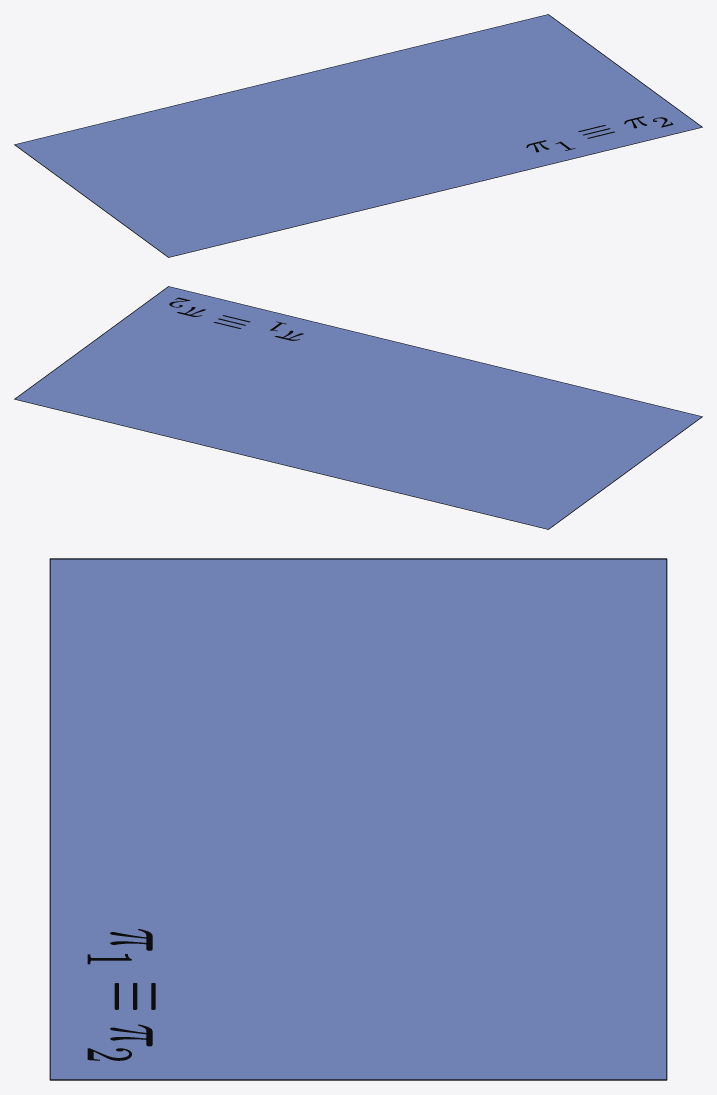
File: pi_coincidente_pi.glb
3 views of the same model, one above another, from view 1: azimuth 30°, elevation 25°; view 2: azimuth 150°, elevation 25°; view 3: azimuth 270°, elevation 25° (orthographic). The views are drawn at different scales.
Parts seen in each view (by area): view 1: Plano, Meshn.004; view 2: Plano, Meshn.004; view 3: Plano, Meshn.004.
Part boxes in pixels (x1,y1,x2,y2): Plano: (14, 14, 702, 257); Meshn.004: (526, 116, 673, 152); Plano: (14, 286, 702, 529); Meshn.004: (169, 297, 303, 340); Plano: (49, 558, 667, 1080); Meshn.004: (87, 929, 155, 1060).
Bounding box in the file's own units: 4.01 × 0.00572 × 2.
